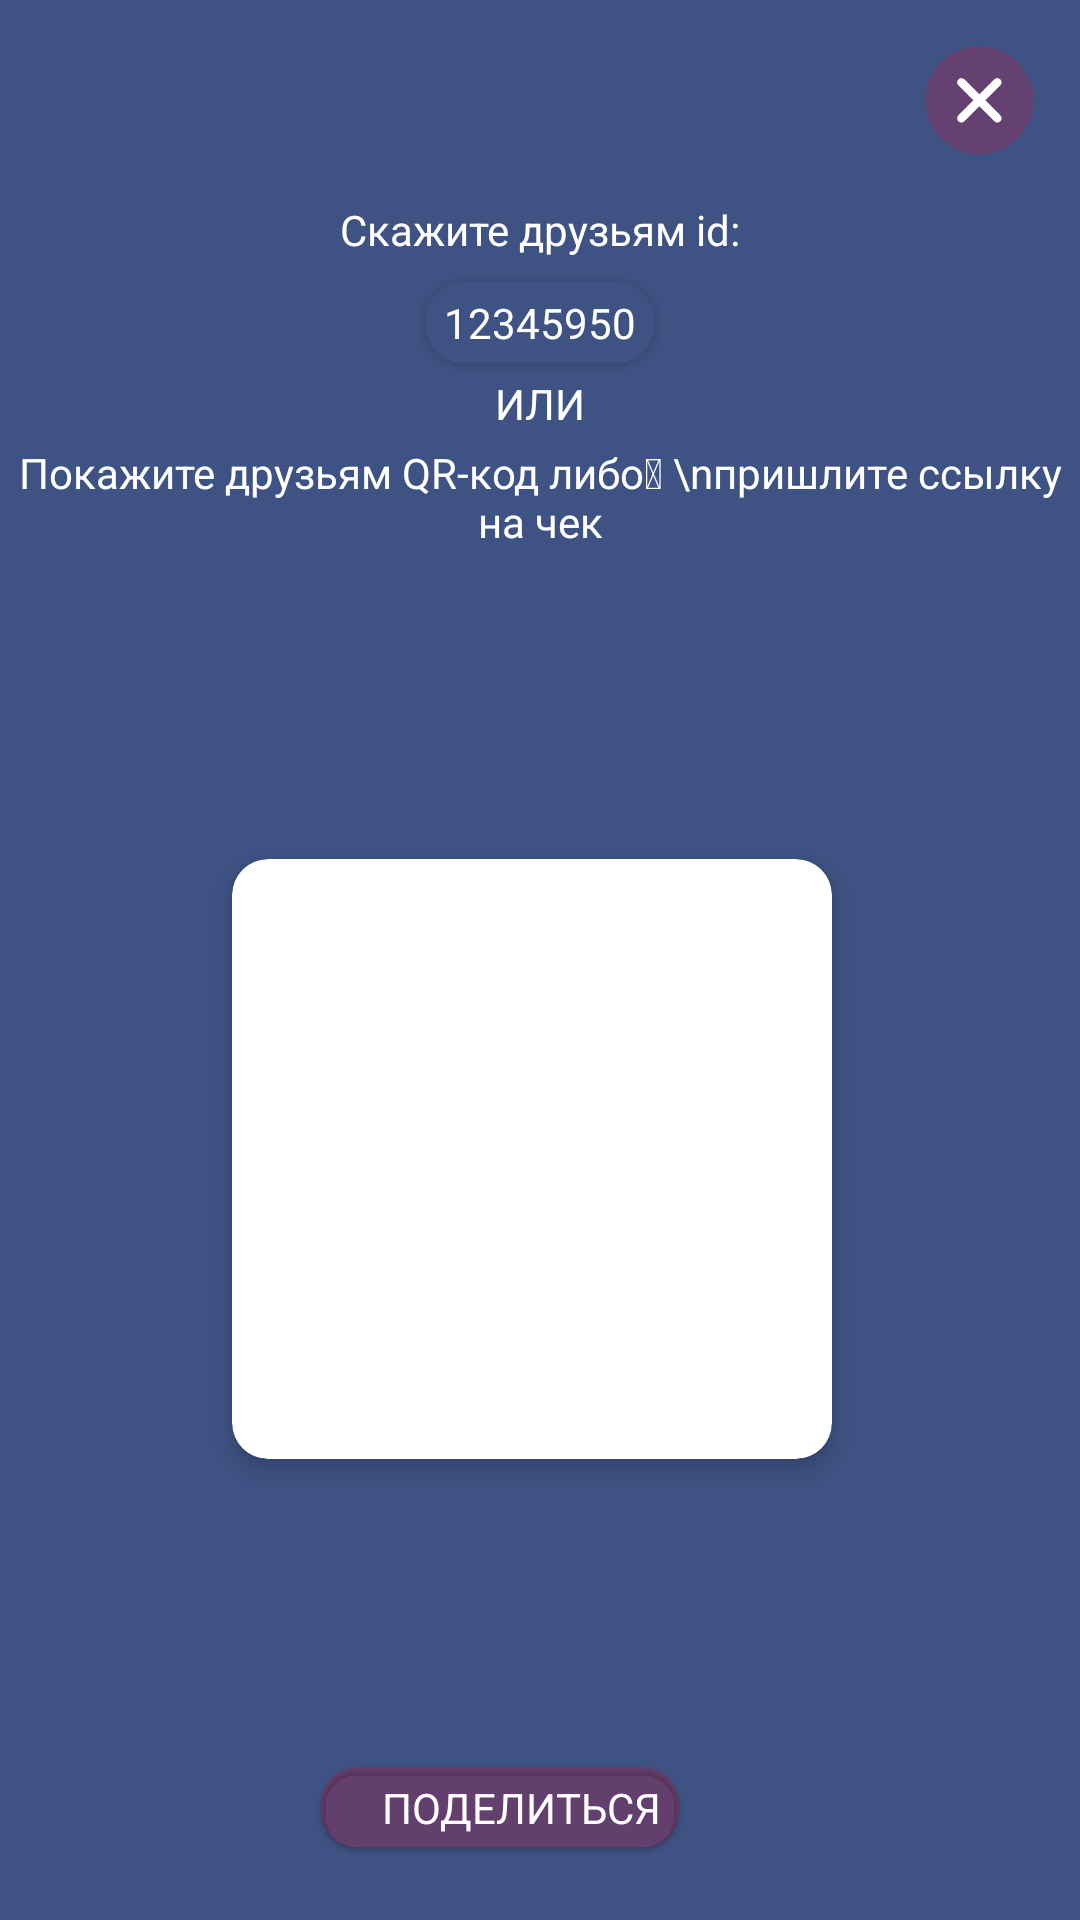

Icons on this 1080x1920 Android screen, each with the point to tap as (x=x, y=y):
close: (x=979, y=100)
